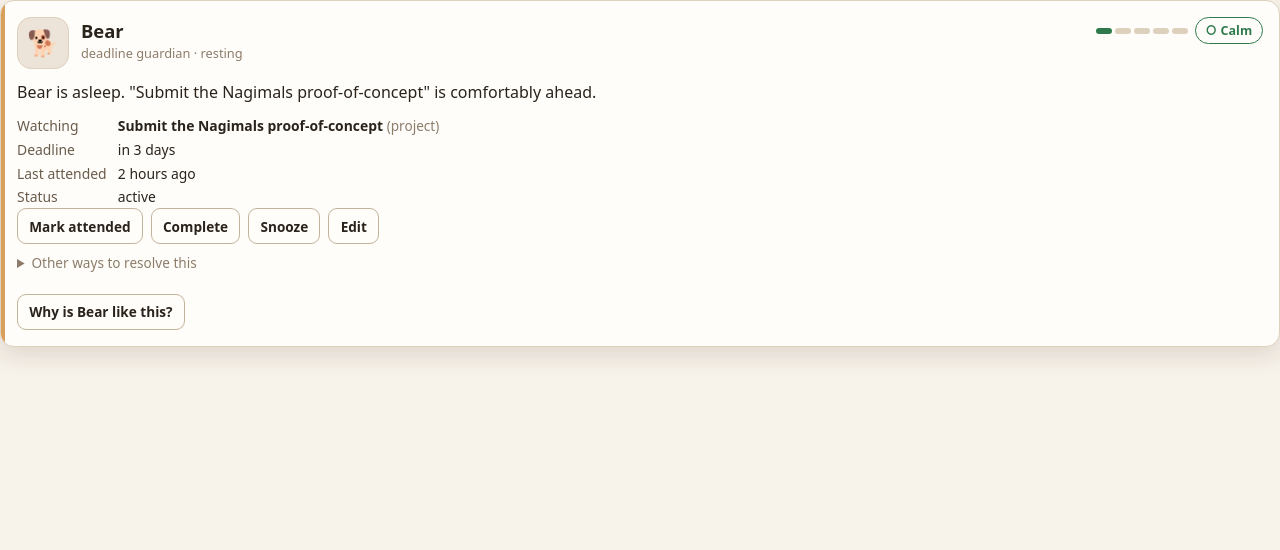
NagimalCard › a snooze demands an explicit new commitment
Click the button "Snooze" at {"x": 284, "y": 226}, box [248,208,320,244]
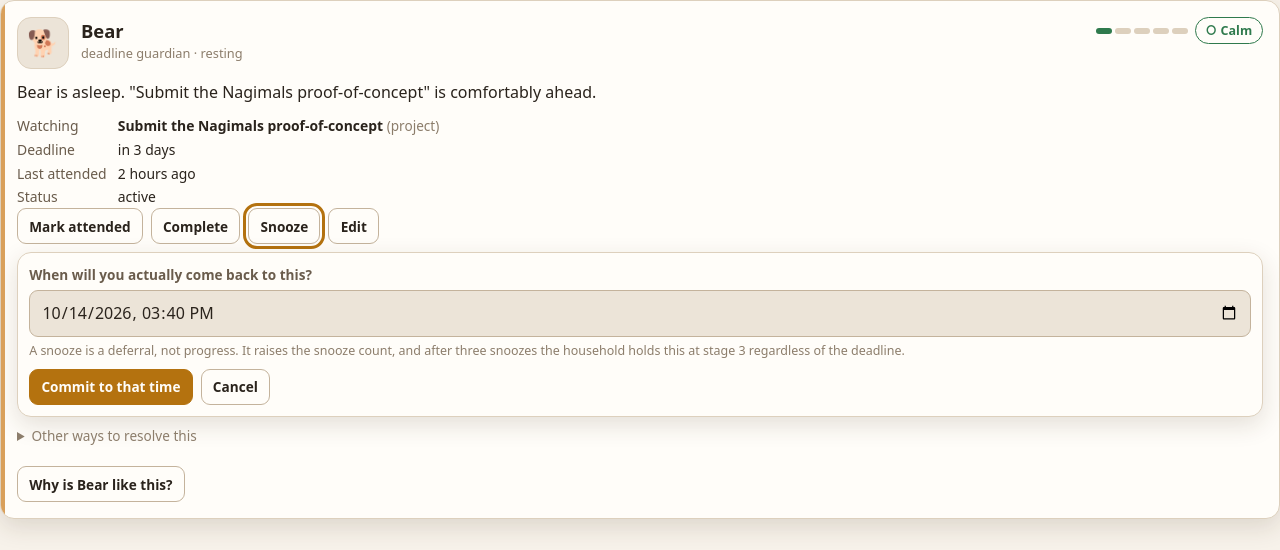
expect the field labelled "When will you actually come back to this?" is shown: met, box [29,290,1251,336]
expect the text "A snooze is a deferral, not progress" is shown: met, box [29,342,905,359]
expect the button "Commit to that time" is shown: met, box [29,369,193,405]
